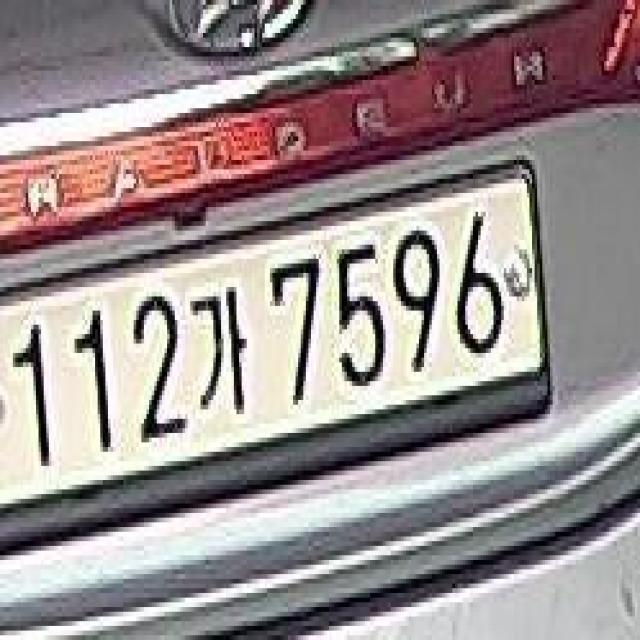illegal_plate: (2, 160, 555, 557)
